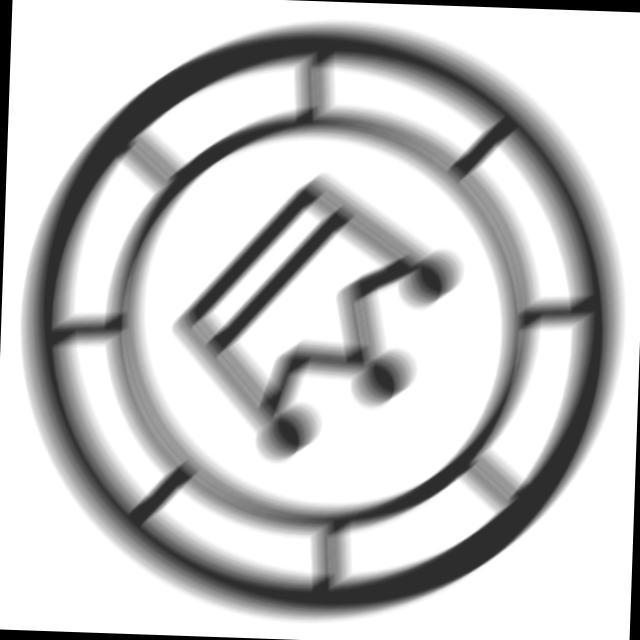coin: (6, 1, 637, 637)
